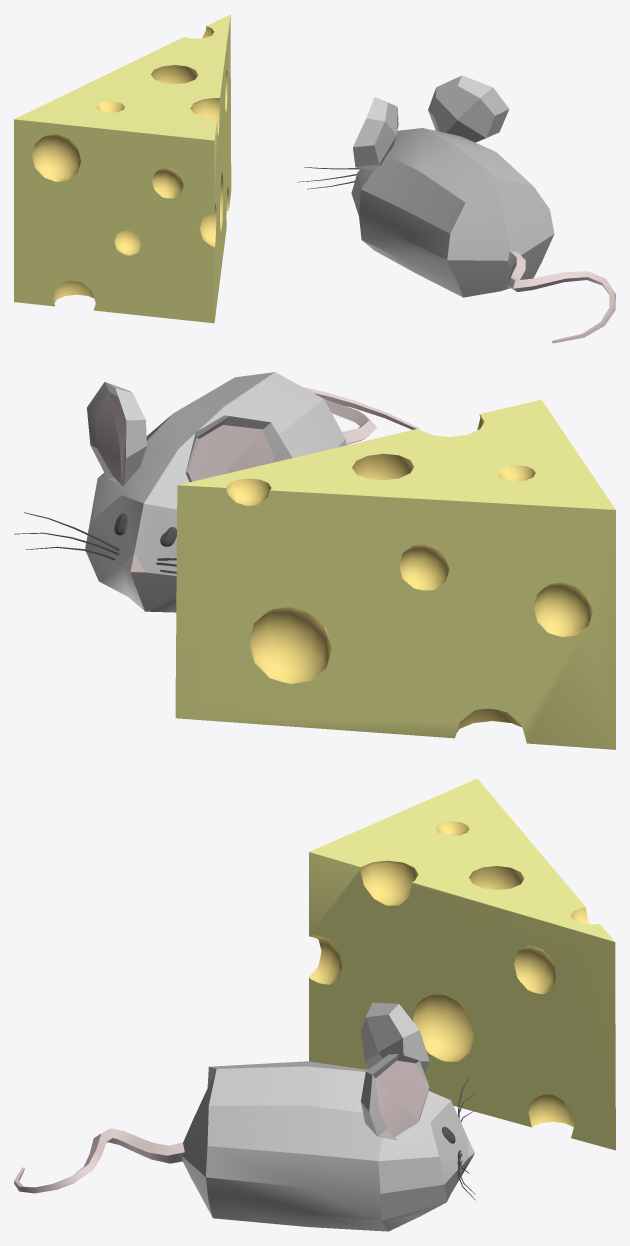
The model's file is MouseandCheese.fbx.
3 views of the same model, one above another, from view 1: azimuth 30°, elevation 25°; view 2: azimuth 150°, elevation 25°; view 3: azimuth 270°, elevation 25° (orthographic). The views are drawn at different scales.
Parts seen in each view (by area): view 1: Cheese, Body, Tail; view 2: Cheese, Body, Tail; view 3: Cheese, Body, Tail.
Boxes of the visible parts, bbox=[...] form: Cheese: bbox=[14, 14, 231, 323]; Body: bbox=[297, 75, 554, 297]; Tail: bbox=[506, 251, 615, 343]; Cheese: bbox=[175, 399, 615, 749]; Body: bbox=[14, 372, 346, 612]; Tail: bbox=[303, 387, 418, 444]; Cheese: bbox=[309, 778, 615, 1150]; Body: bbox=[182, 1002, 475, 1231]; Tail: bbox=[14, 1128, 184, 1193].
Bounding box in the file's own units: 661 × 265 × 640.
